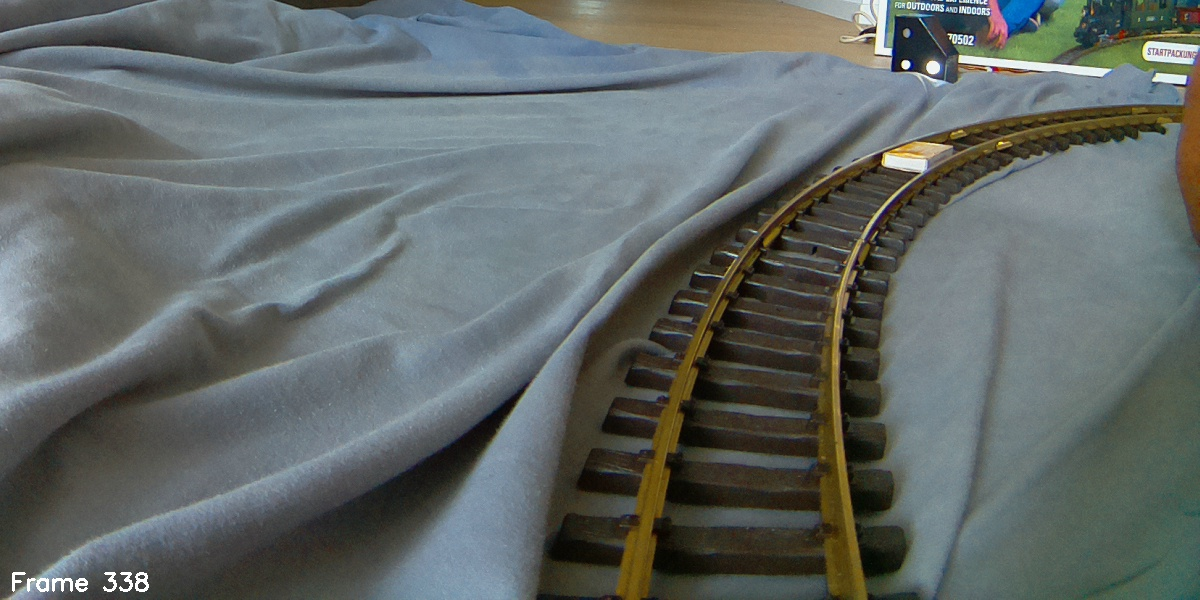Halt: (891, 14, 957, 77)
